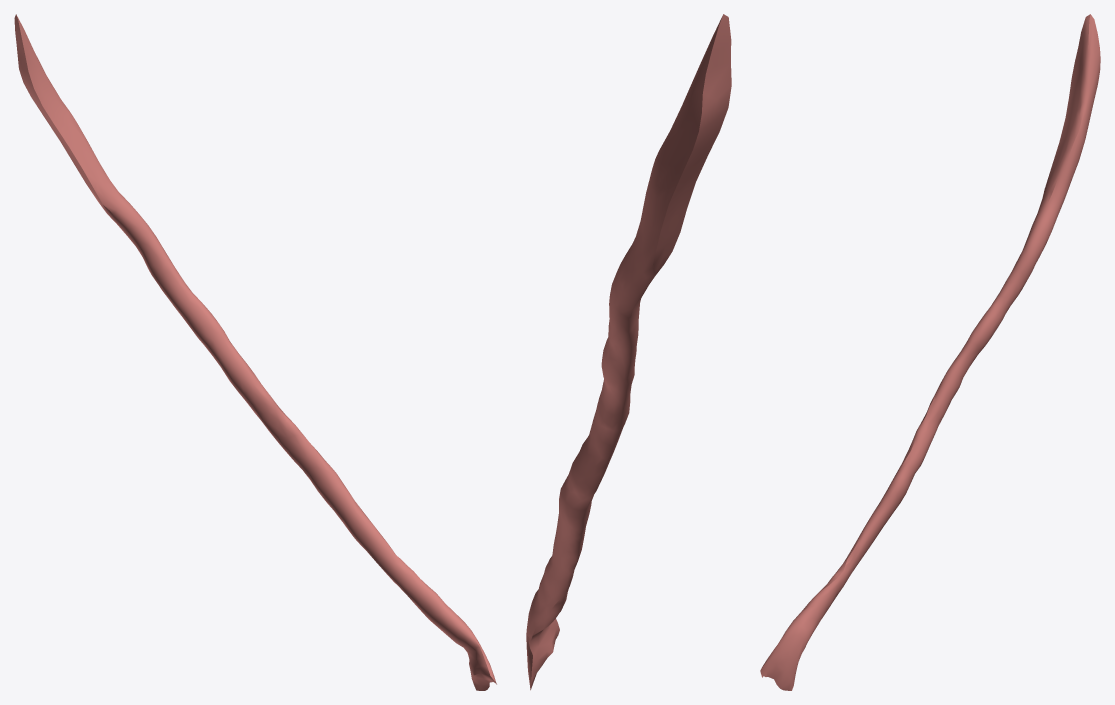
Rendered from fma40811_mm1961m.glb.
The picture shows the model from 3 angles, left to right: view 1: azimuth 30°, elevation 25°; view 2: azimuth 150°, elevation 25°; view 3: azimuth 270°, elevation 25°; orthographic projection. The views are drawn at different scales.
Visible parts, largest first — view 1: FMA40811_MM1961M; view 2: FMA40811_MM1961M; view 3: FMA40811_MM1961M.
Boxes of the visible parts, left/top/right/bottom form: FMA40811_MM1961M: left=14, top=14, right=496, bottom=690; FMA40811_MM1961M: left=526, top=14, right=731, bottom=690; FMA40811_MM1961M: left=760, top=14, right=1100, bottom=690.
Size of the model in its own units: 0.0563 by 0.1132 by 0.0633.
